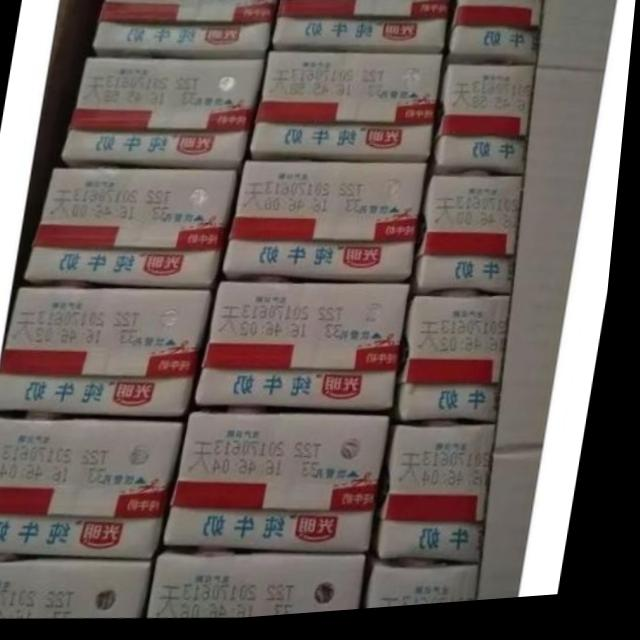box: (173, 415, 398, 557), (0, 288, 218, 417), (0, 418, 194, 561), (203, 285, 417, 414), (28, 169, 240, 291), (227, 165, 431, 287), (63, 60, 264, 170), (252, 58, 446, 168), (390, 431, 504, 571), (404, 302, 517, 432), (159, 557, 378, 621), (420, 184, 528, 305), (433, 73, 536, 185), (92, 0, 278, 61), (272, 0, 452, 58), (0, 559, 162, 619), (448, 0, 545, 73), (379, 571, 491, 615)
